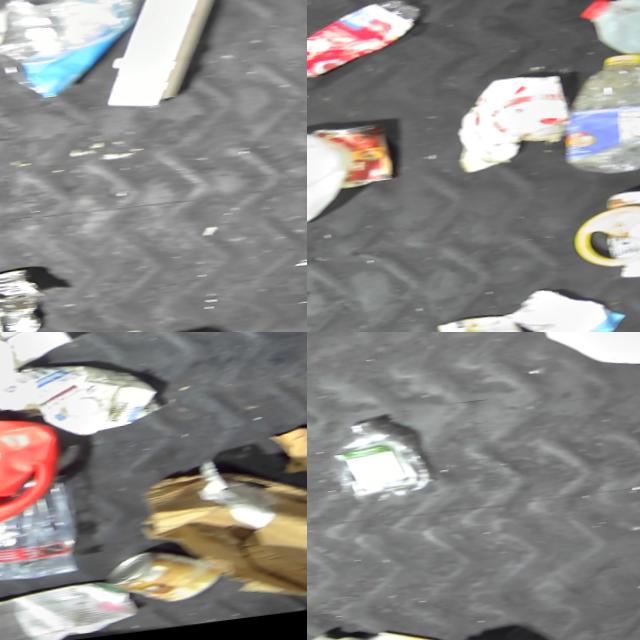can: (110, 540, 240, 612), (307, 117, 403, 194)
milk_jug: (307, 120, 363, 251), (530, 332, 640, 383), (573, 0, 640, 82)
non_white_jug: (0, 412, 80, 557)
plastic_bottle: (307, 0, 436, 94), (555, 44, 640, 181), (330, 410, 445, 504)
